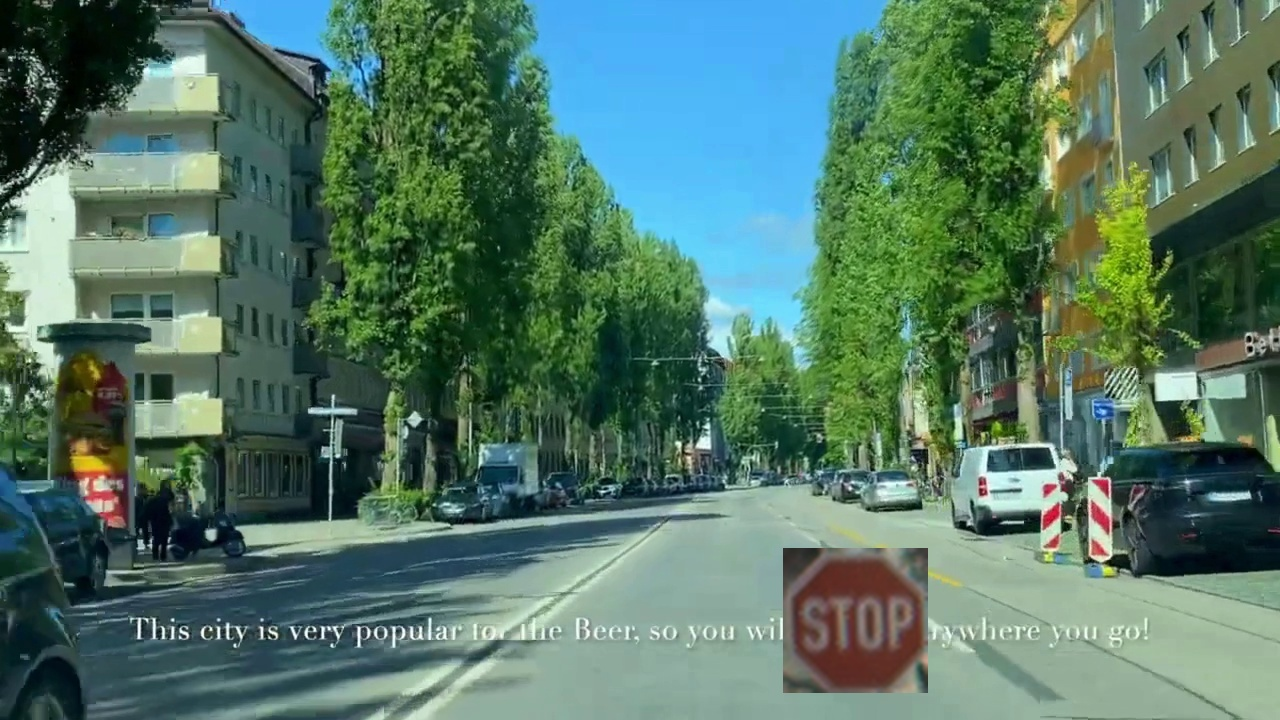Stop: (783, 548, 928, 693)
